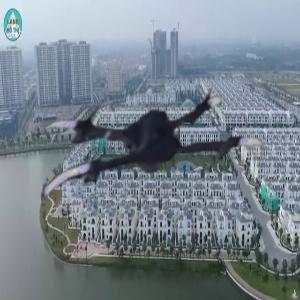drone: (37, 54, 261, 278)
